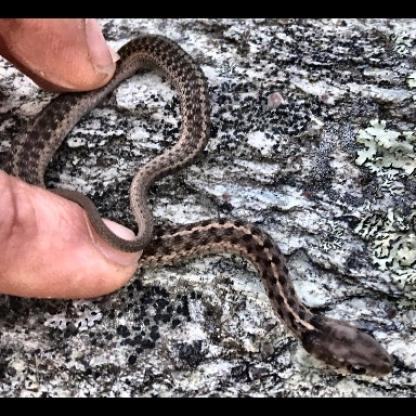Snake: (8, 31, 212, 243), (150, 210, 392, 382)
